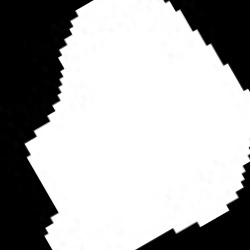spot: (24, 2, 248, 249)
